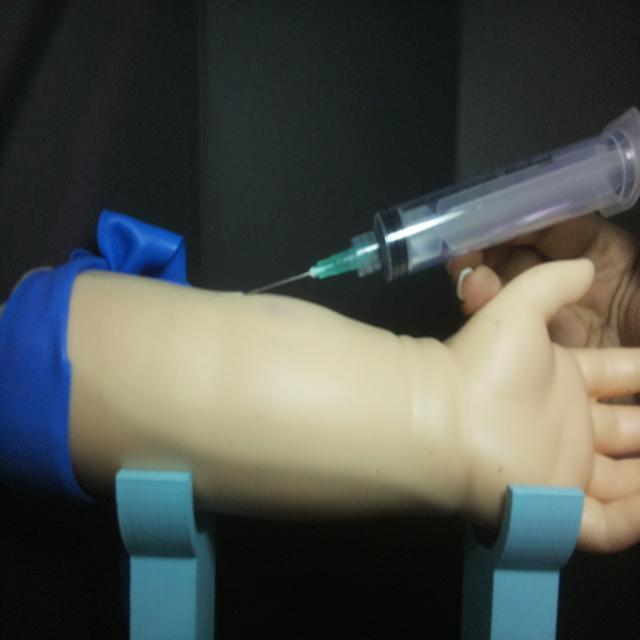18deg: (242, 102, 638, 299)
